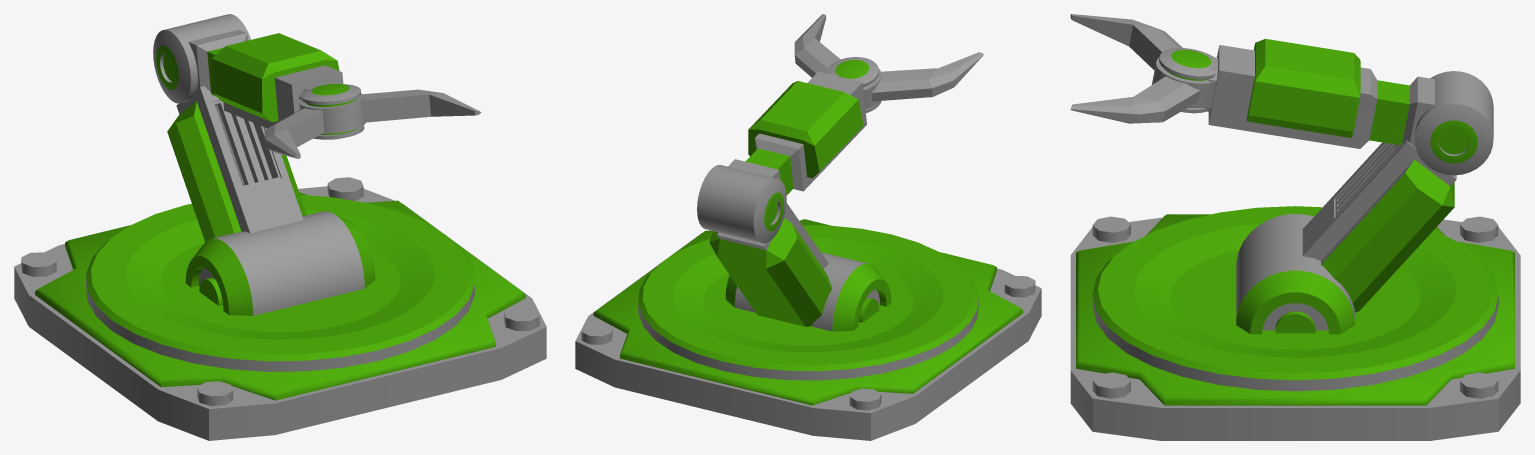
The model's file is RobotArm.fbx.
3 renders of one model, left to right at view 1: azimuth 30°, elevation 25°; view 2: azimuth 150°, elevation 25°; view 3: azimuth 270°, elevation 25°, orthographic. The views are drawn at different scales.
Parts seen in each view (by area): view 1: Base, RotatingBase, Arm1, Arm2, Cube.002, Cube, Cube.001, Piston1; view 2: RotatingBase, Base, Arm2, Arm1, Cube.001, Cube.002, Cube; view 3: RotatingBase, Base, Arm1, Arm2, Cube.002, Cube, Cube.001.
Part boxes in pixels (box(x1,y1,x2,y2)): Base: box(14, 177, 546, 440); RotatingBase: box(86, 195, 474, 371); Arm1: box(167, 86, 375, 315); Arm2: box(153, 14, 343, 128); Cube.002: box(363, 89, 481, 122); Cube: box(299, 82, 365, 139); Cube.001: box(264, 108, 324, 158); Piston1: box(215, 105, 264, 185); RotatingBase: box(638, 225, 978, 380); Base: box(575, 219, 1041, 440); Arm2: box(697, 71, 866, 243); Arm1: box(709, 203, 891, 331); Cube.001: box(871, 52, 983, 101); Cube.002: box(794, 14, 840, 77); Cube: box(826, 57, 881, 112); RotatingBase: box(1092, 206, 1498, 391); Base: box(1070, 214, 1520, 440); Arm1: box(1236, 140, 1456, 334); Arm2: box(1208, 39, 1493, 175); Cube.002: box(1070, 76, 1200, 123); Cube: box(1152, 48, 1217, 113); Cube.001: box(1070, 14, 1182, 70).
Bounding box in the file's own units: 2.22 × 1.62 × 2.22.
